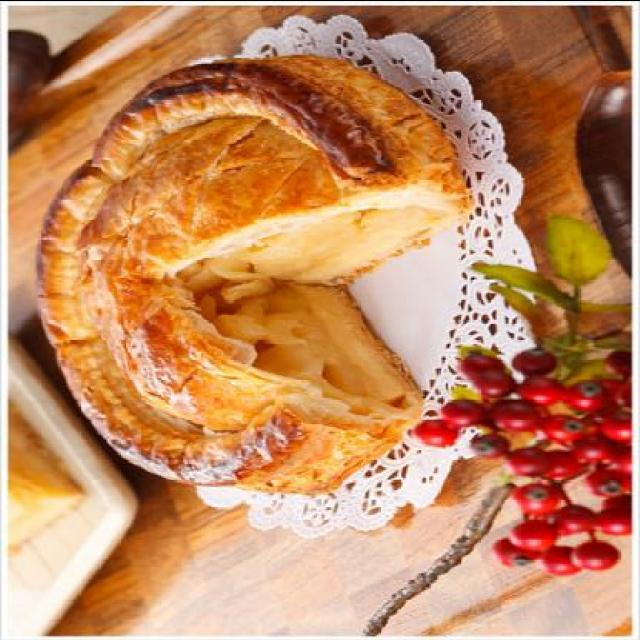Apple: (36, 54, 456, 494)
